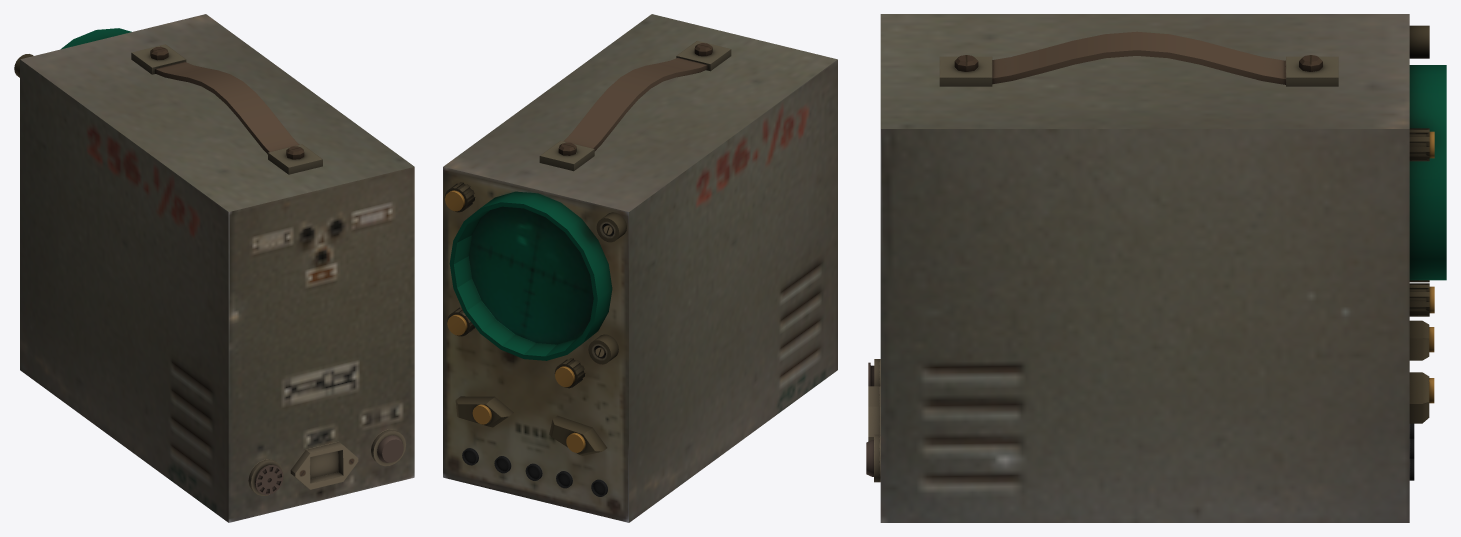
File: tesla11.glb
The picture shows the model from 3 angles, left to right: view 1: azimuth 30°, elevation 25°; view 2: azimuth 150°, elevation 25°; view 3: azimuth 270°, elevation 25°; orthographic projection. The views are drawn at different scales.
Visible parts, largest first — view 1: tesia11; view 2: tesia11; view 3: tesia11.
Part boxes in pixels (x1,y1,x2,y2): tesia11: [14, 14, 414, 522]; tesia11: [443, 14, 837, 522]; tesia11: [866, 14, 1446, 522].
Size of the model in its own units: 0.2394 by 0.4168 by 0.5107.
Materials: 1 (1 with a texture image).
